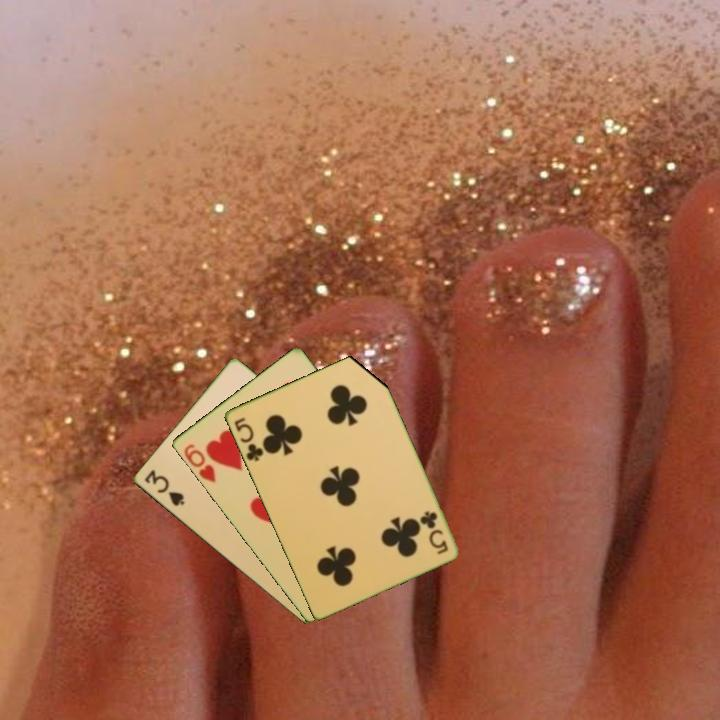3s: (141, 466, 187, 509)
5c: (230, 414, 266, 464), (417, 507, 451, 557)
6h: (180, 440, 219, 485)
